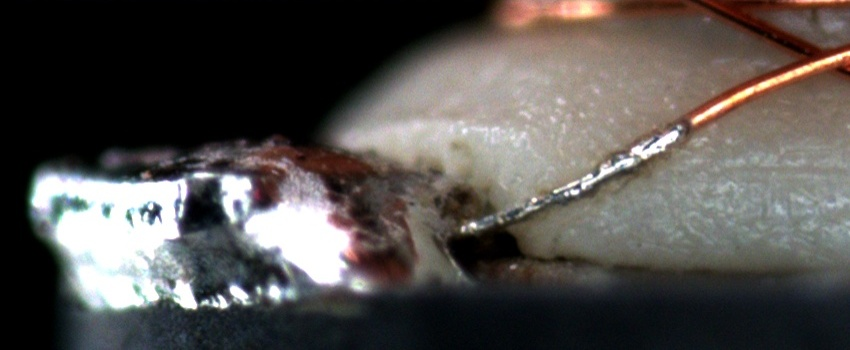CL: (776, 32, 848, 83)
DL: (670, 136, 850, 193)
TS: (451, 116, 688, 242)
